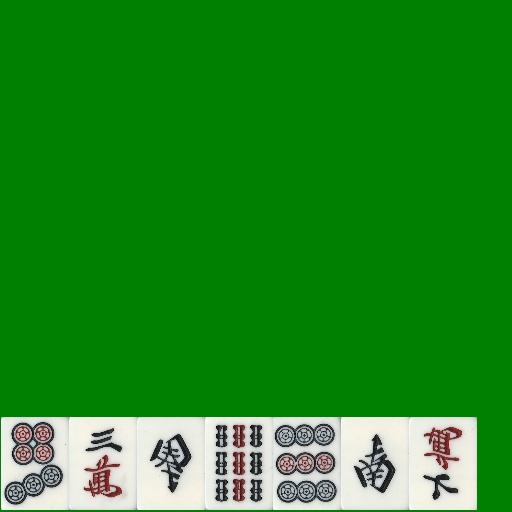3m: (69, 417, 137, 510)
7m: (409, 417, 477, 510)
7p: (1, 417, 69, 510)
9p: (273, 417, 341, 510)
9s: (205, 417, 273, 510)
south: (137, 417, 205, 510), (341, 417, 409, 510)
